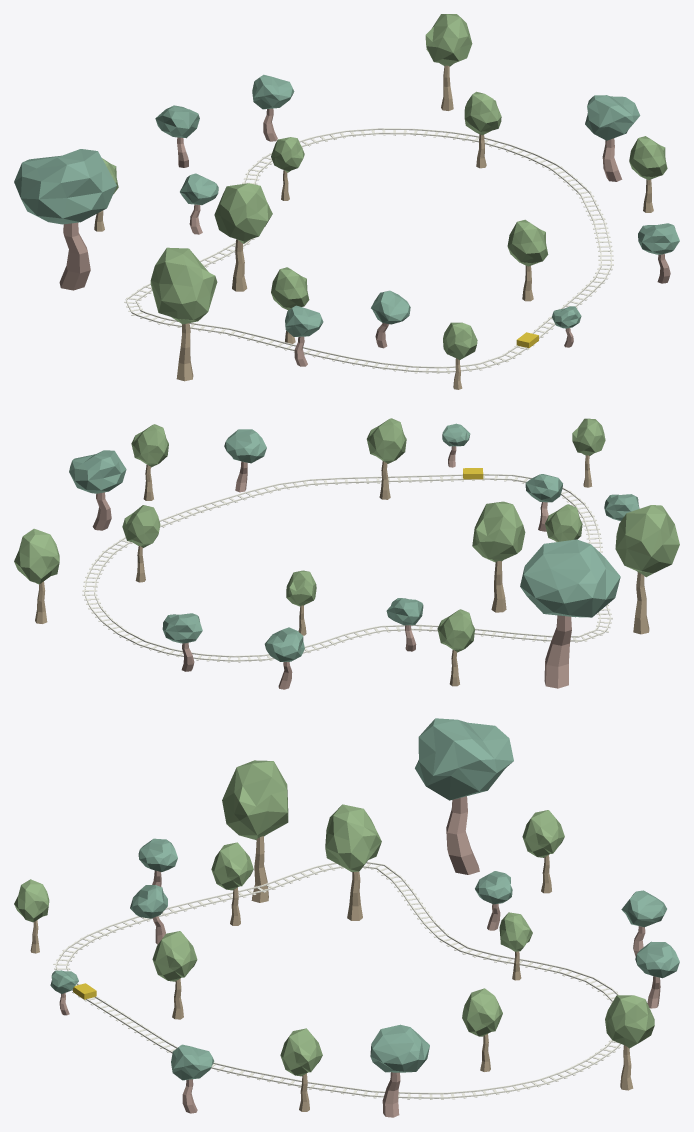
The model's file is world.gltf.
3 renders of one model, top to bottom at view 1: azimuth 30°, elevation 25°; view 2: azimuth 150°, elevation 25°; view 3: azimuth 270°, elevation 25°, orthographic. The views are drawn at different scales.
Visible parts, largest first — view 1: tree2.002, track, tree1.009, tree1.008, tree2.006, tree1.005, tree1.007, tree1.006, tree1.004, tree2.004, tree2.005, tree2.009 (+7 smaller); view 2: tree2.002, track, tree1.009, tree1.008, tree2.006, tree1.005, tree1.007, tree1.004, tree1.003, tree1.006, tree2.009, tree2.005 (+8 smaller); view 3: tree2.002, track, tree1.009, tree1.008, tree2.006, tree1.005, tree1.007, tree1.003, tree1.006, tree1, tree1.004, tree2.004 (+8 smaller).
Boxes of the visible parts, left/top/right/bottom form: tree2.002: left=14, top=149, right=116, bottom=290; track: left=124, top=128, right=613, bottom=373; tree1.009: left=150, top=247, right=217, bottom=381; tree1.008: left=214, top=183, right=272, bottom=291; tree2.006: left=585, top=95, right=640, bottom=181; tree1.005: left=425, top=14, right=472, bottom=110; tree1.007: left=507, top=219, right=548, bottom=301; tree1.006: left=629, top=136, right=667, bottom=212; tree1.004: left=464, top=91, right=501, bottom=168; tree2.004: left=252, top=74, right=294, bottom=141; tree2.005: left=155, top=105, right=199, bottom=167; tree2.009: left=638, top=223, right=679, bottom=283; tree2.002: left=520, top=539, right=620, bottom=688; track: left=82, top=474, right=612, bottom=662; tree1.009: left=615, top=505, right=679, bottom=634; tree1.008: left=472, top=501, right=525, bottom=612; tree2.006: left=69, top=450, right=126, bottom=530; tree1.005: left=14, top=528, right=59, bottom=623; tree1.007: left=366, top=418, right=406, bottom=499; tree1.004: left=122, top=505, right=160, bottom=582; tree1.003: left=437, top=609, right=474, bottom=686; tree1.006: left=131, top=424, right=168, bottom=500; tree2.009: left=224, top=429, right=266, bottom=492; tree2.005: left=264, top=627, right=304, bottom=689; tree2.002: left=415, top=718, right=513, bottom=874; track: left=53, top=862, right=620, bottom=1099; tree1.009: left=222, top=760, right=288, bottom=902; tree1.008: left=325, top=804, right=381, bottom=920; tree2.006: left=370, top=1024, right=429, bottom=1117; tree1.005: left=605, top=995, right=654, bottom=1090; tree1.007: left=152, top=931, right=197, bottom=1019; tree1.003: left=522, top=810, right=564, bottom=893; tree1.006: left=280, top=1028, right=322, bottom=1111; tree1: left=211, top=842, right=253, bottom=925; tree1.004: left=462, top=988, right=502, bottom=1071; tree2.004: left=635, top=941, right=679, bottom=1008.
Size of what is drawn, in the model's own units: 33.67 by 8.8 by 32.28.
